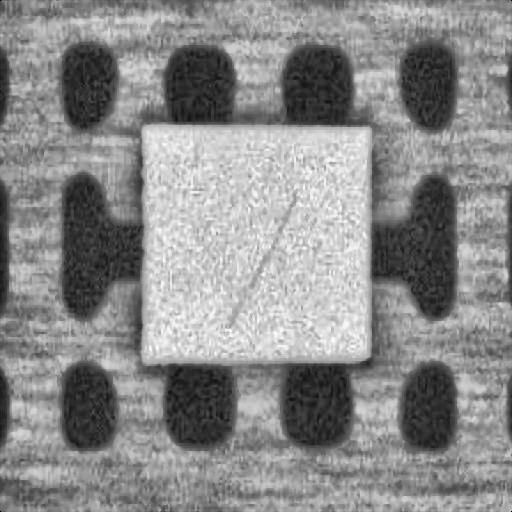DIE_CRACK: (224, 194, 292, 321)
